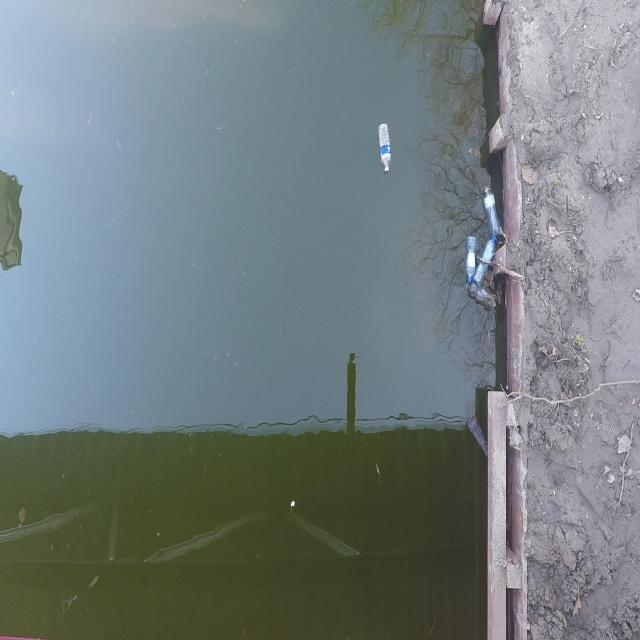Bouteille plastique: (474, 237, 498, 284), (484, 186, 500, 235), (377, 123, 391, 172), (469, 285, 496, 309), (465, 236, 476, 284)
